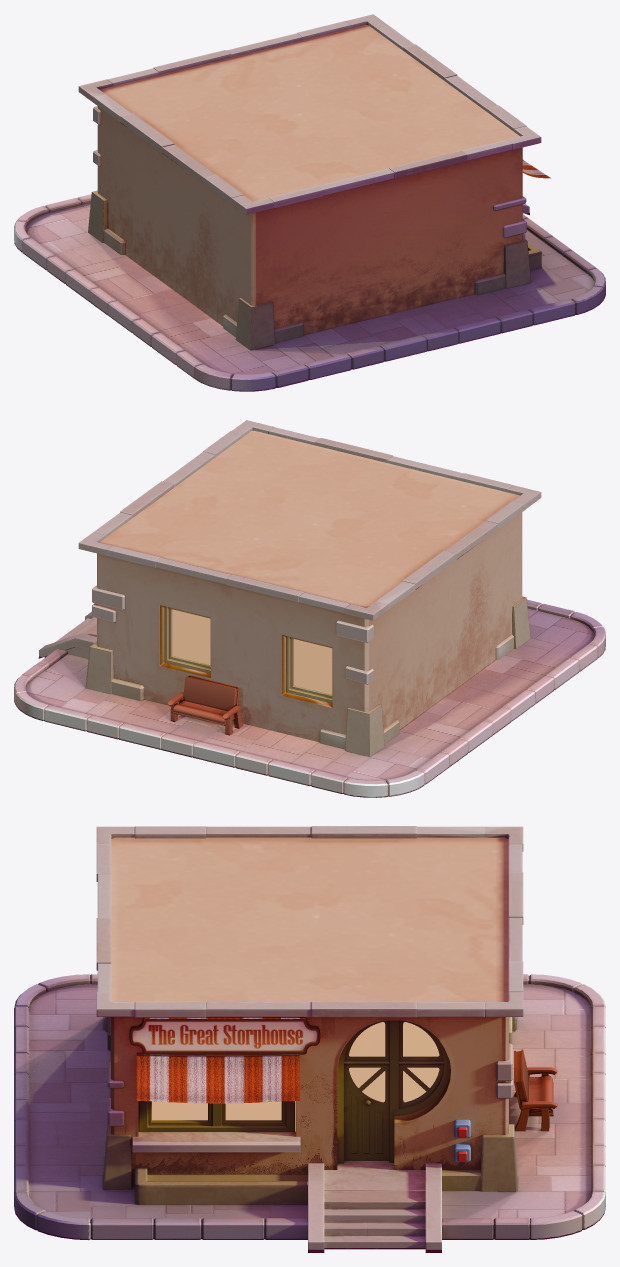
The model's file is G0_SM_exterieur.gltf.
3 renders of one model, top to bottom at view 1: azimuth 30°, elevation 25°; view 2: azimuth 150°, elevation 25°; view 3: azimuth 270°, elevation 25°, orthographic. The views are drawn at different scales.
Visible parts, largest first — view 1: G0_SM_murs, G0_SM_sol, G0_SM_finitions; view 2: G0_SM_murs, G0_SM_sol, G0_SM_finitions, G0_fenetres, G0_SM_misc, G0_SM_boiserie; view 3: G0_SM_murs, G0_SM_sol, G0_SM_finitions, G0_SM_misc, G0_SM_boiserie, G0_fenetres.
Part boxes in pixels (<box>): G0_SM_murs: <box>97,24,522,334</box>; G0_SM_sol: <box>14,194,605,391</box>; G0_SM_finitions: <box>78,14,541,350</box>; G0_SM_murs: <box>97,430,522,741</box>; G0_SM_sol: <box>14,599,605,797</box>; G0_SM_finitions: <box>38,420,541,756</box>; G0_fenetres: <box>172,609,332,694</box>; G0_SM_misc: <box>167,675,243,735</box>; G0_SM_boiserie: <box>164,606,332,703</box>; G0_SM_murs: <box>111,837,508,1187</box>; G0_SM_sol: <box>14,974,605,1240</box>; G0_SM_finitions: <box>96,826,523,1252</box>; G0_SM_misc: <box>129,1017,557,1162</box>; G0_SM_boiserie: <box>138,1020,450,1163</box>; G0_fenetres: <box>132,1021,439,1131</box>.
Bounding box in the file's own units: 13.03 × 4.65 × 12.49.
Materials: 6 (6 with a texture image).
